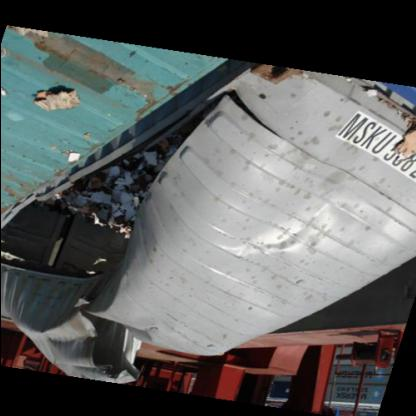Damage: (1, 107, 230, 327)
